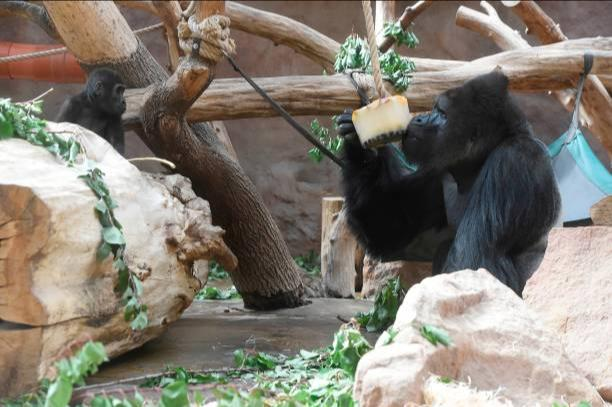gorille_Autres: (354, 65, 574, 299)
